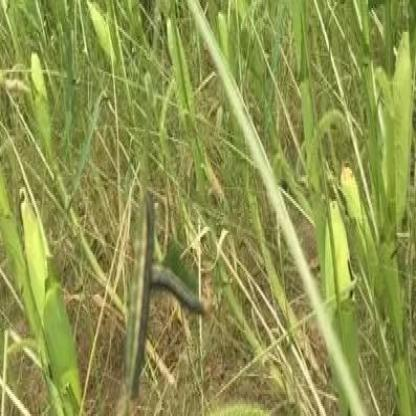armyworm: (124, 189, 157, 406), (133, 262, 212, 319)
